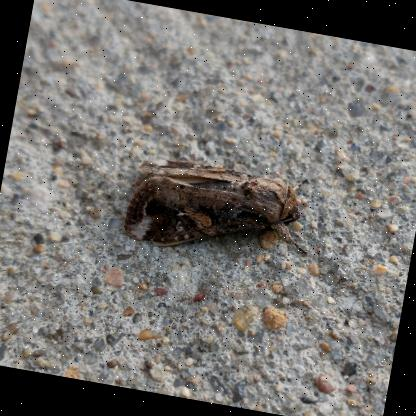Fall Armyworm Moth: (117, 146, 325, 274)
